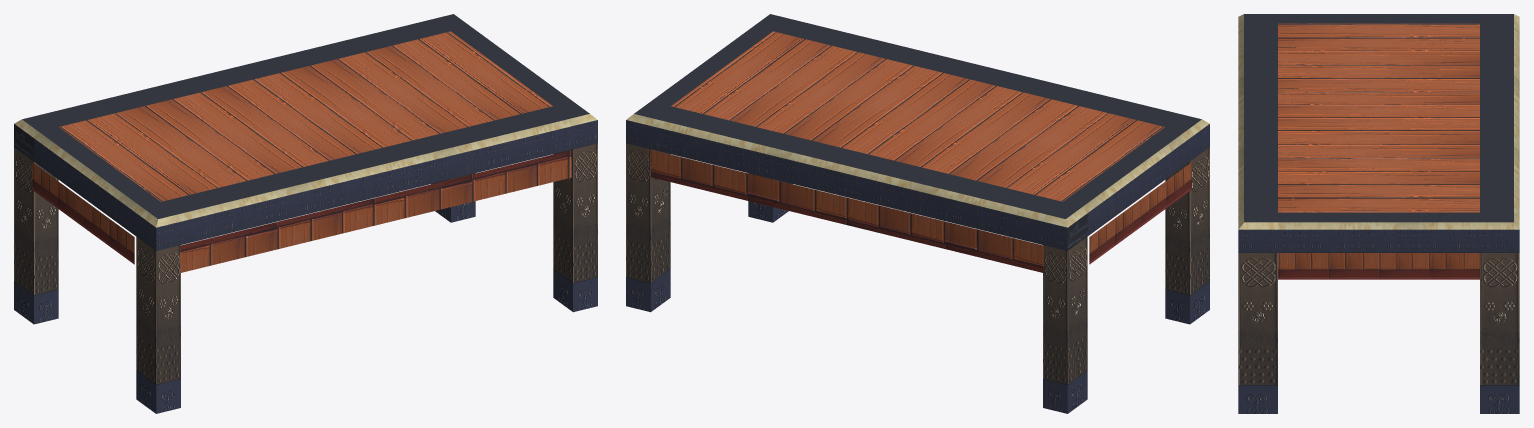
File: polygonalmind-lunar-year-048.glb
3 views of the same model, side by side, from view 1: azimuth 30°, elevation 25°; view 2: azimuth 150°, elevation 25°; view 3: azimuth 270°, elevation 25° (orthographic).
Visible parts, largest first — view 1: Table01; view 2: Table01; view 3: Table01.
Part boxes in pixels (bbox=[...]): Table01: bbox=[14, 14, 597, 413]; Table01: bbox=[626, 14, 1209, 413]; Table01: bbox=[1238, 14, 1519, 413].
Size of the model in its own units: 1.91 by 0.7883 by 1.06.
4 materials, 4 textured.
